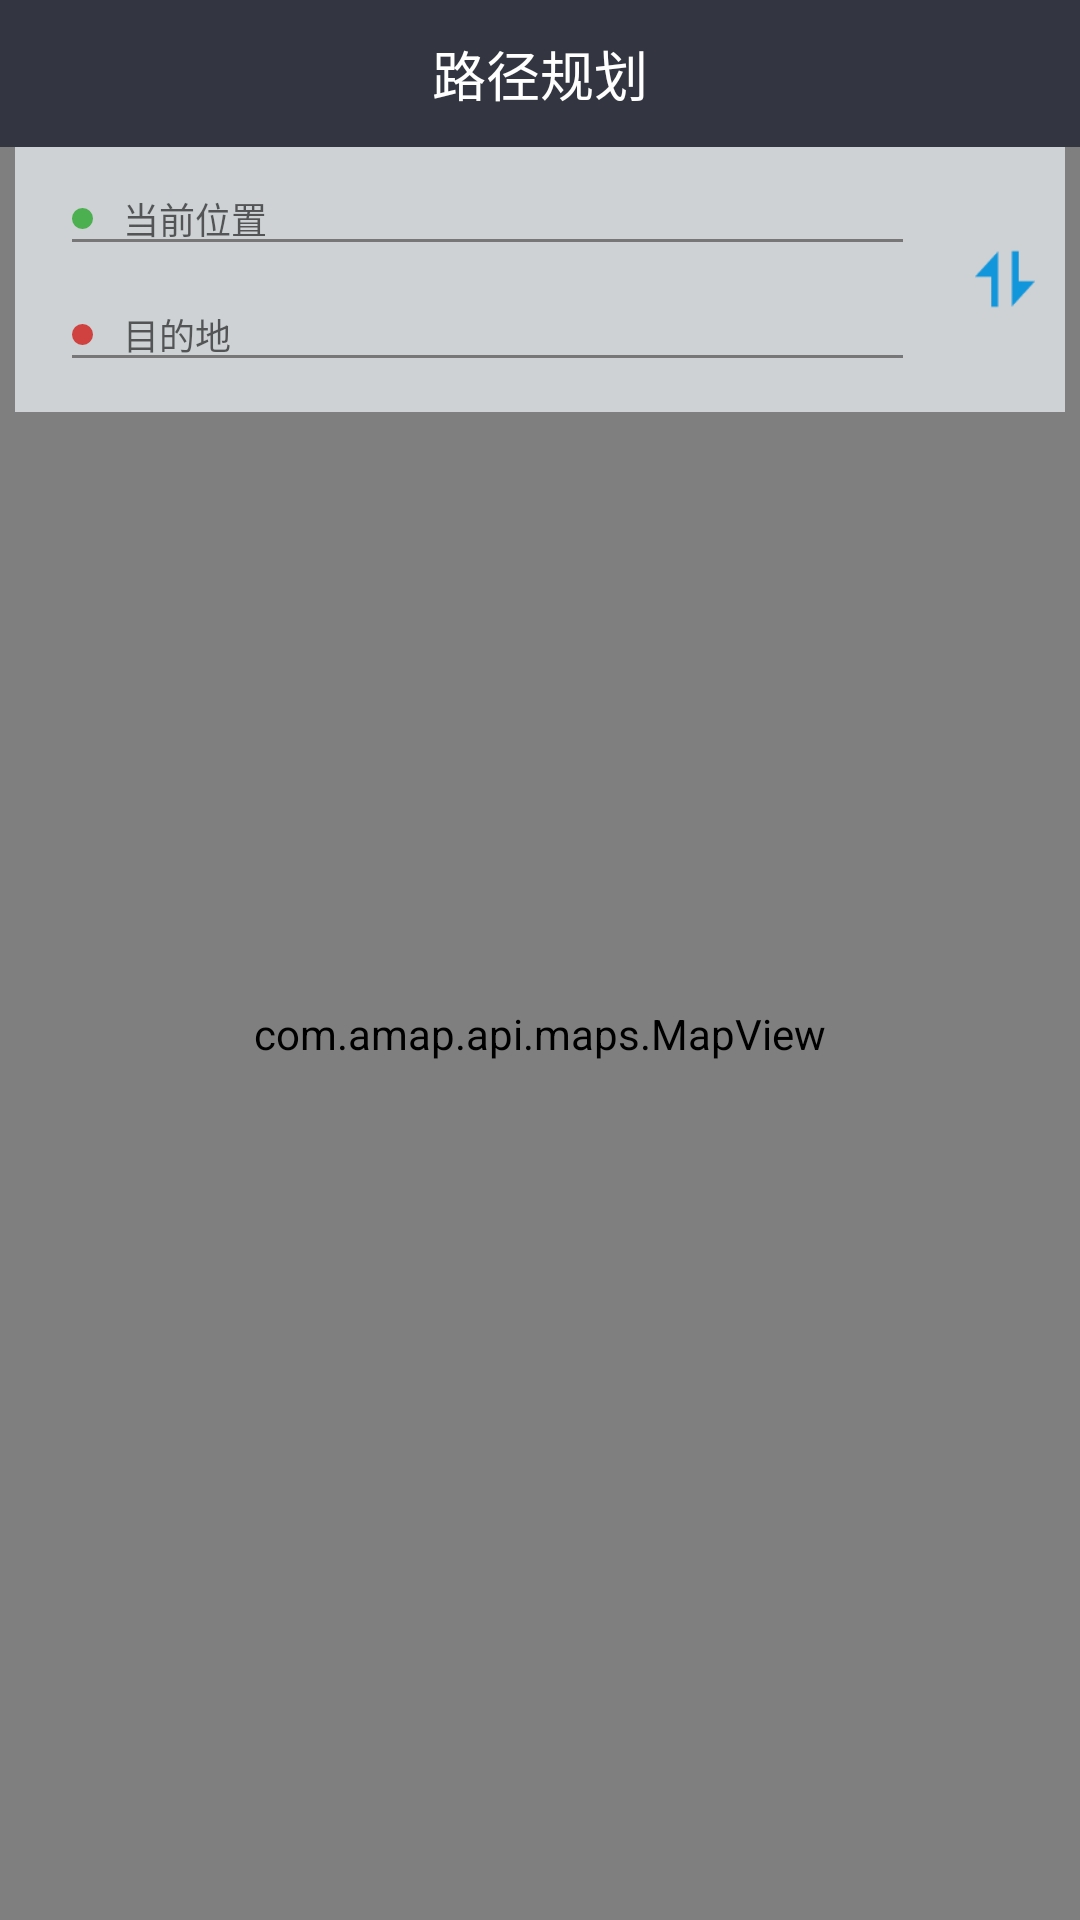

Screen size 1080 x 1920. Icon name, then its center in pixels as (x,y):
change order: (1005,279)
